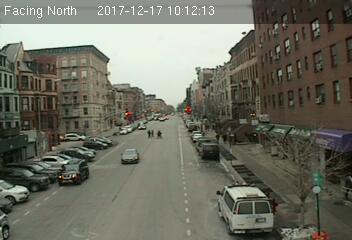car: (56, 159, 90, 186), (121, 148, 140, 165), (201, 143, 218, 160)
police: (217, 180, 275, 238)
